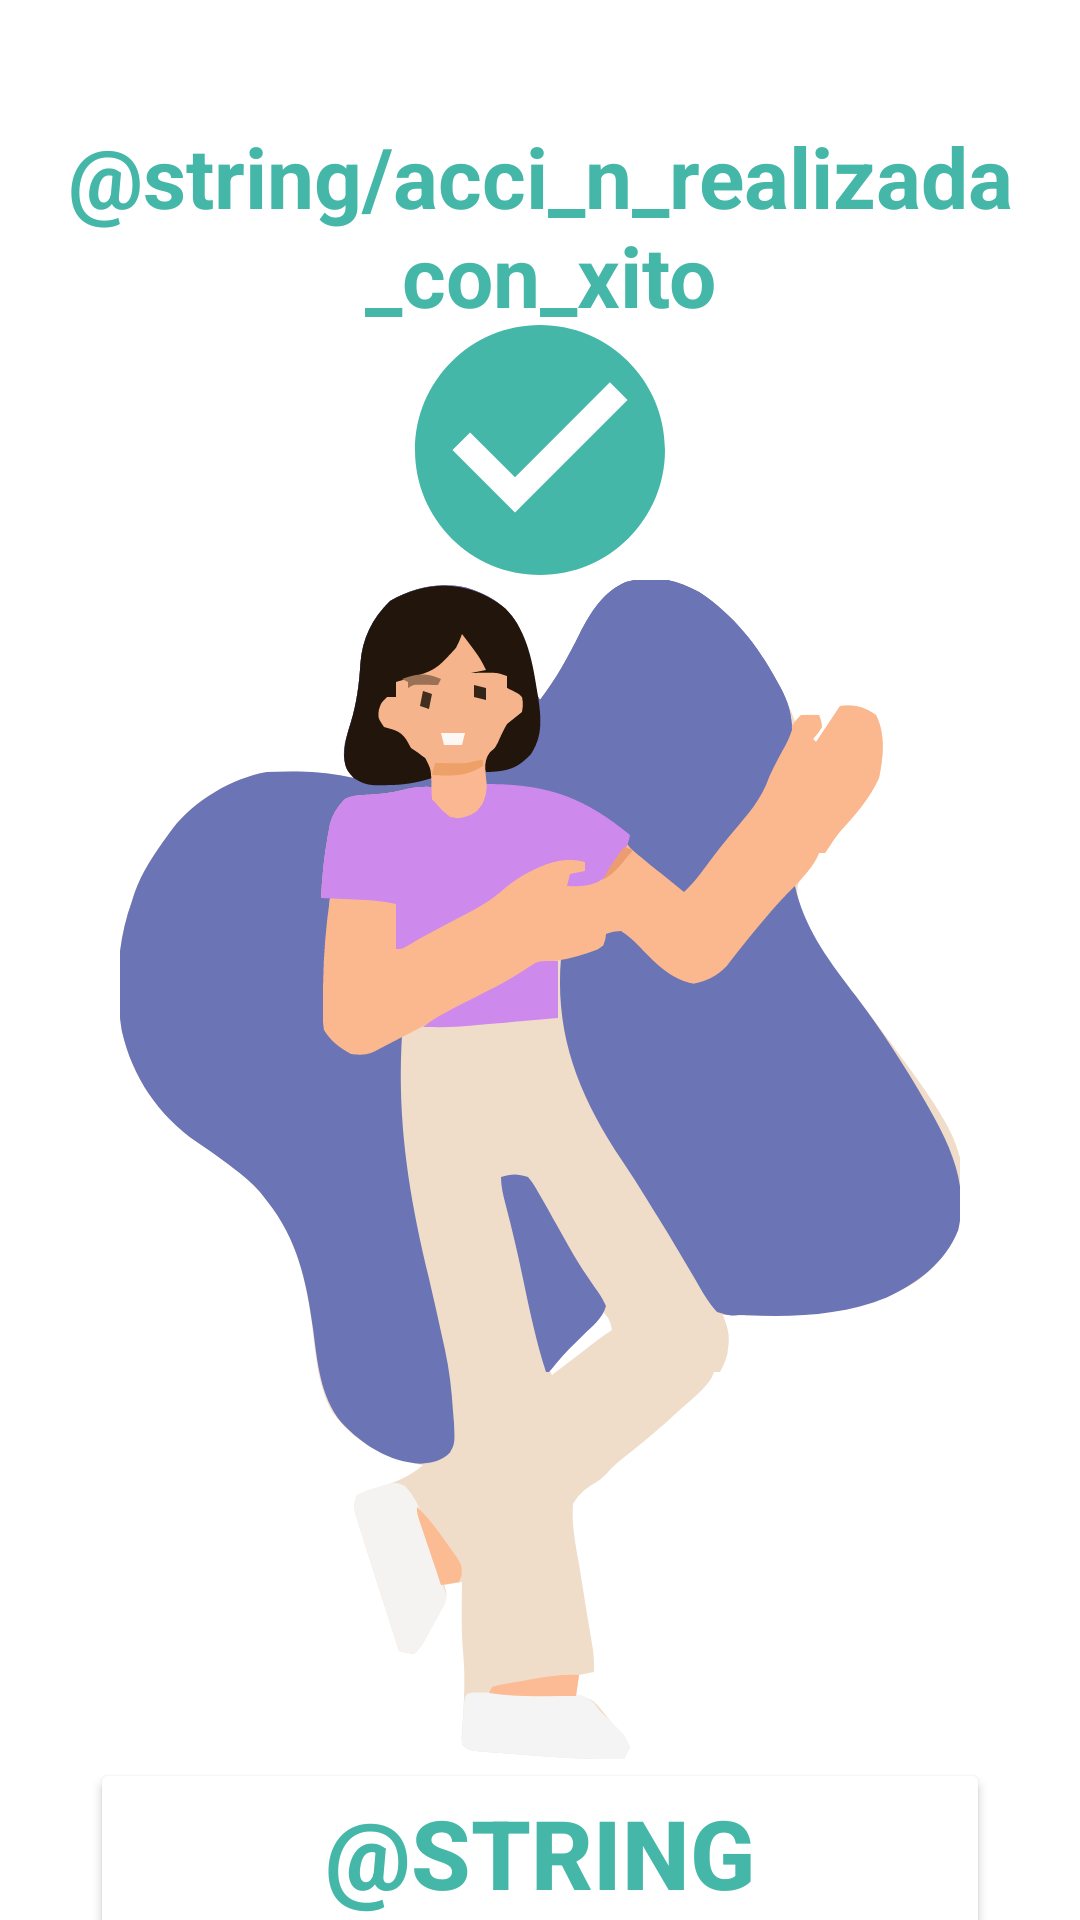

Icon bounding boxes for this 1080 x 1920 phone screenshot, format (x1, y1, x2, y2):
checkmark: (415, 325, 665, 575)
